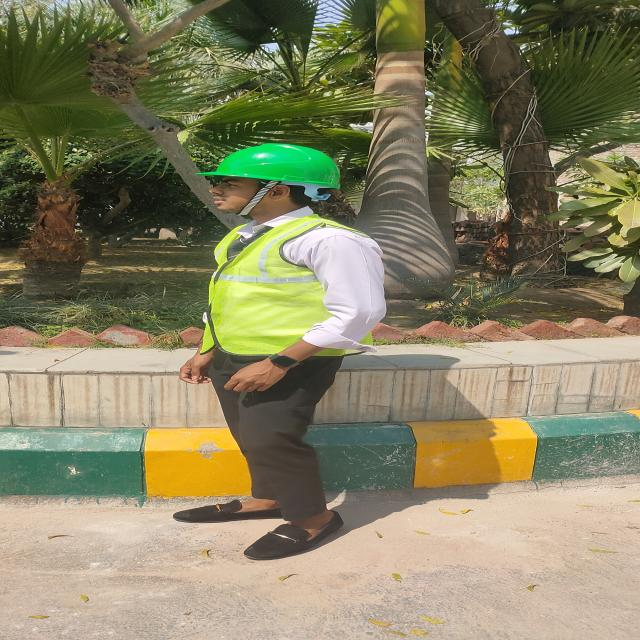safe: (175, 144, 382, 559)
